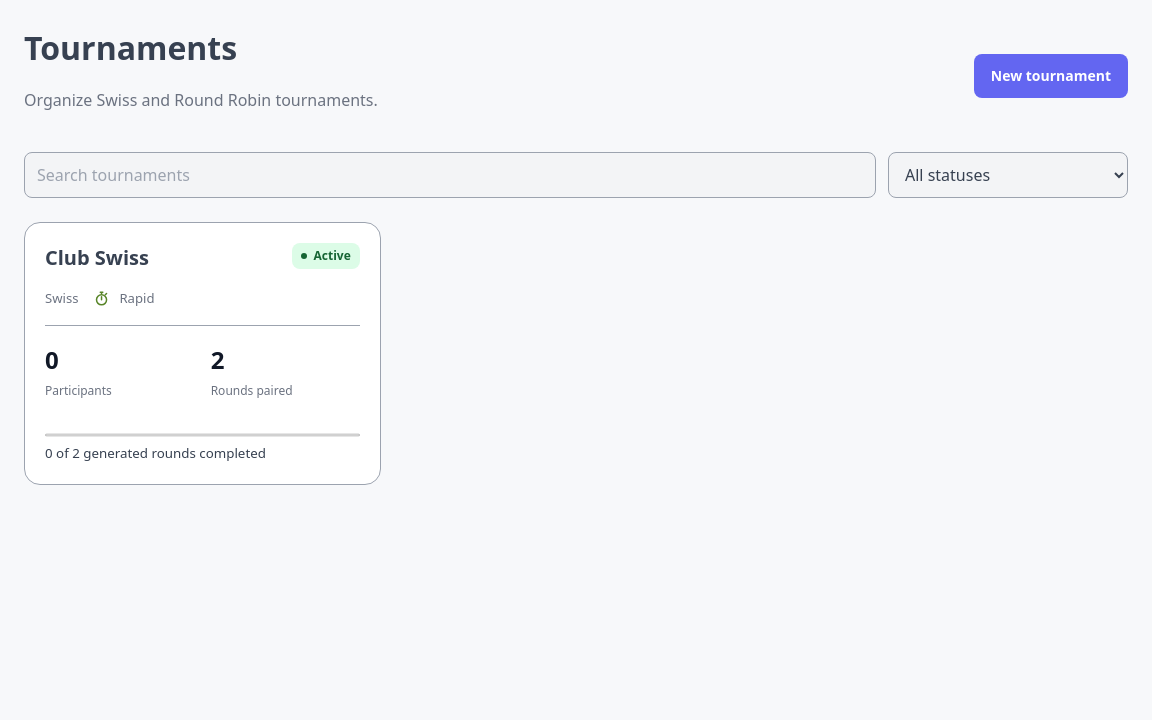
Test case: TournamentsPage › shows format and category without rating state or dates on active cards
Check: the heading "Club Swiss" is shown, box [45,243,149,273]
Check: the text "Rapid" is shown, box [94,289,154,309]
Step 1. Click the button "New tournament" → point(1051, 76), box [974,54,1128,98]
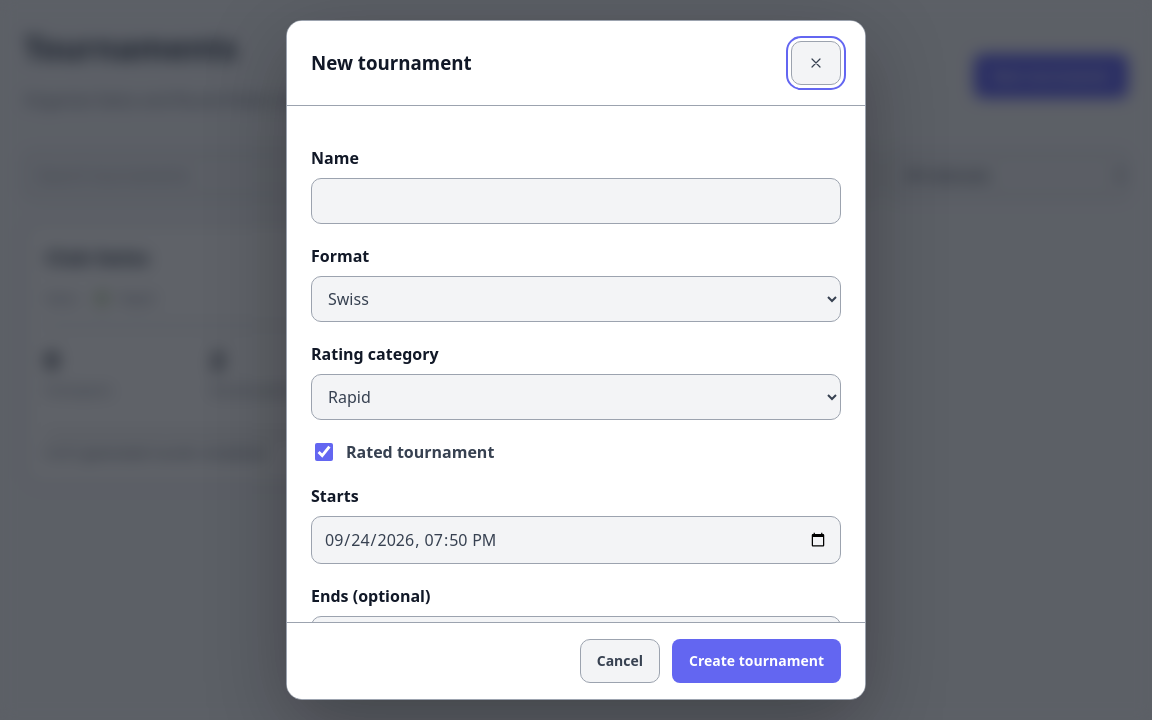
Check: the dropdown labelled "Format" is shown, box [311,276,841,322]
